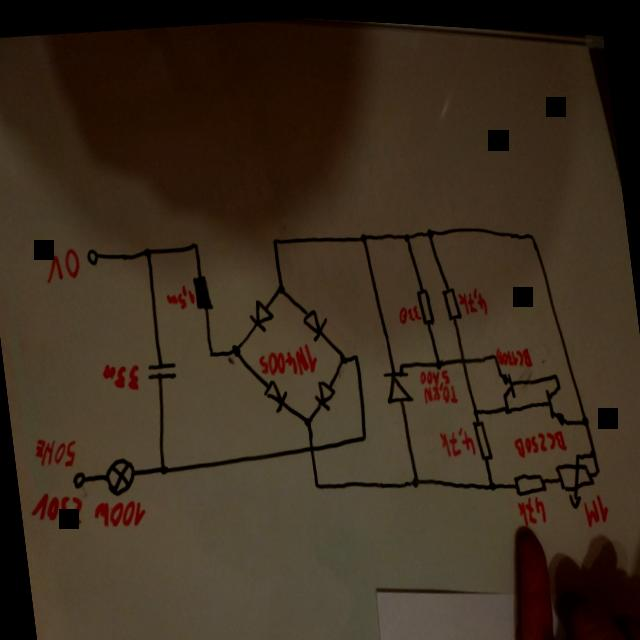capacitor: (142, 346, 182, 392)
crossover: (457, 347, 472, 365), (307, 439, 319, 453)
diode: (260, 373, 294, 414), (246, 292, 278, 335), (300, 300, 332, 342), (311, 372, 339, 412)
inductor: (190, 266, 218, 316)
junction: (157, 459, 173, 480), (422, 218, 438, 238), (409, 469, 424, 488), (230, 338, 244, 358), (578, 407, 594, 424), (142, 244, 158, 260), (357, 224, 371, 242), (357, 425, 371, 442), (486, 472, 500, 489), (400, 224, 414, 241), (302, 411, 316, 427), (276, 278, 290, 294), (268, 230, 282, 246), (311, 473, 324, 490), (501, 397, 513, 414), (338, 348, 350, 364), (526, 223, 538, 238), (433, 352, 445, 367), (470, 400, 482, 414), (588, 441, 600, 455), (191, 238, 203, 251), (206, 346, 218, 359), (594, 458, 604, 473), (352, 347, 361, 360), (492, 346, 501, 359), (552, 364, 561, 376)
resistor: (554, 442, 598, 506), (508, 462, 552, 493), (471, 411, 498, 461), (438, 277, 466, 322), (416, 280, 438, 325)
terminal: (70, 469, 92, 491), (85, 245, 104, 268)
text: (254, 335, 320, 379), (29, 486, 88, 533), (92, 493, 150, 534), (512, 420, 570, 456), (416, 360, 460, 405), (99, 354, 145, 397), (34, 433, 82, 474), (42, 244, 86, 287), (436, 418, 478, 458), (581, 484, 613, 526), (516, 487, 550, 524), (495, 337, 536, 367), (458, 279, 492, 315), (165, 280, 198, 311), (397, 298, 423, 322)
thyristor: (378, 352, 418, 407)
transistor: (540, 375, 572, 424), (495, 364, 519, 397)
